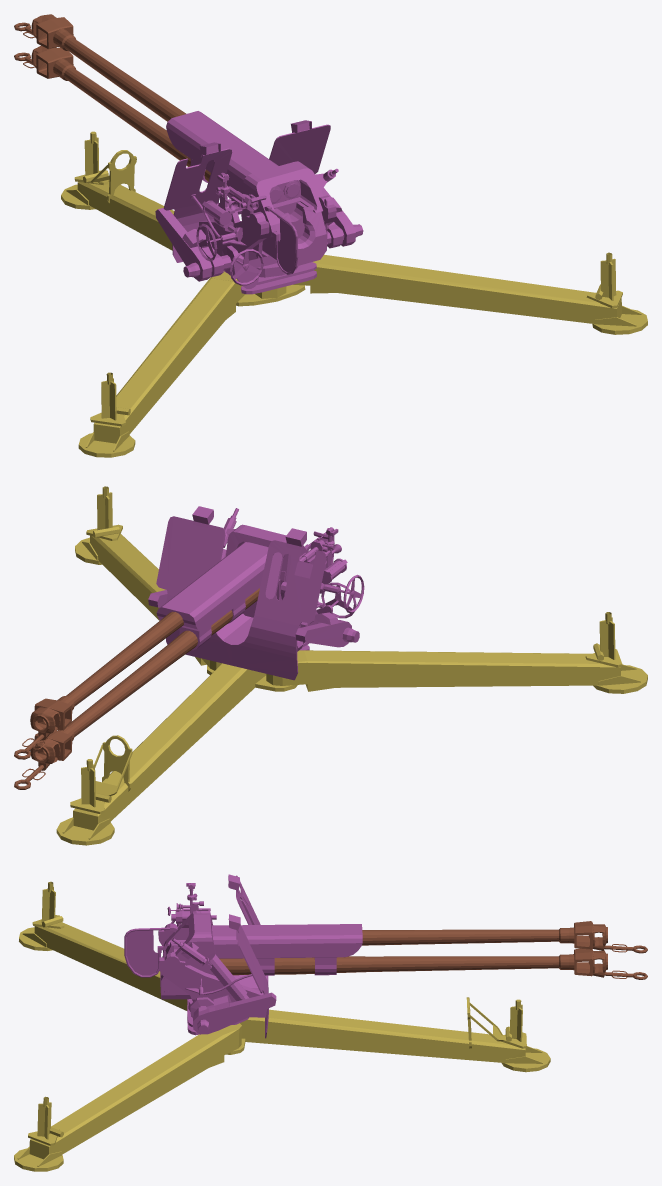
Rendered from gausbitsa-d-30_Update2.fbx.
3 renders of one model, top to bottom at view 1: azimuth 30°, elevation 25°; view 2: azimuth 150°, elevation 25°; view 3: azimuth 270°, elevation 25°, orthographic. The views are drawn at different scales.
Visible parts, largest first — view 1: Attack, Base; view 2: Attack, Base; view 3: Attack, Base.
Boxes of the visible parts, left/top/right/bottom form: Attack: left=14, top=14, right=363, bottom=294; Base: left=61, top=131, right=647, bottom=457; Attack: left=14, top=506, right=364, bottom=789; Base: left=56, top=486, right=647, bottom=845; Attack: left=124, top=874, right=647, bottom=1038; Base: left=14, top=881, right=550, bottom=1171.
Size of the model in its own units: 24.84 by 8.13 by 27.47.
